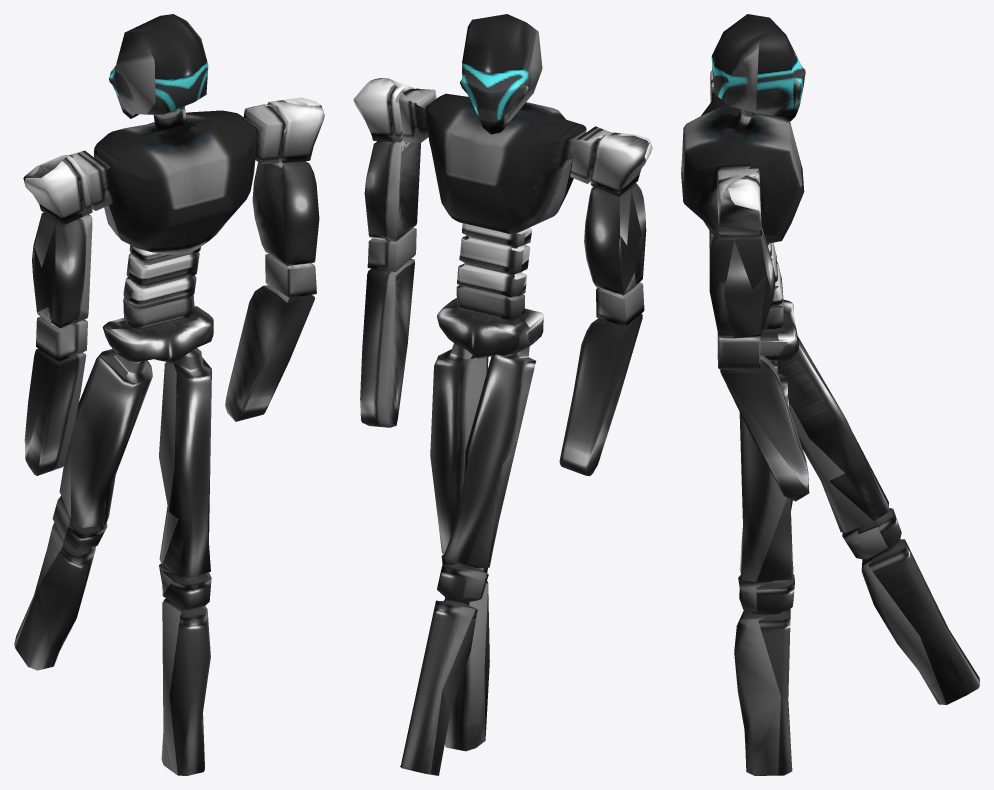
Rendered from frame_029.obj.
The picture shows the model from 3 angles, left to right: view 1: azimuth 30°, elevation 25°; view 2: azimuth 150°, elevation 25°; view 3: azimuth 270°, elevation 25°; orthographic projection. The views are drawn at different scales.
Parts seen in each view (by area): view 1: Cyborg, PiernaD, PierzaI, AntebrazoD, Cabeza, BrazoD; view 2: Cyborg, PierzaI, PiernaD, AntebrazoD, Cabeza, BrazoD; view 3: PierzaI, PiernaD, Cyborg, AntebrazoD, Cabeza, BrazoD.
Boxes of the visible parts, x1,y1,x2,y2 form: Cyborg: (23, 104, 286, 475); PiernaD: (159, 348, 211, 775); PierzaI: (14, 349, 152, 670); AntebrazoD: (252, 97, 324, 297); Cabeza: (109, 14, 208, 118); BrazoD: (225, 285, 314, 421); Cyborg: (398, 88, 652, 475); PierzaI: (400, 346, 535, 775); PiernaD: (430, 343, 489, 751); AntebrazoD: (353, 78, 420, 271); Cabeza: (460, 14, 542, 134); BrazoD: (360, 259, 414, 427); PierzaI: (777, 336, 979, 704); PiernaD: (734, 361, 794, 775); Cyborg: (681, 69, 804, 364); AntebrazoD: (709, 175, 775, 369); Cabeza: (711, 14, 805, 121); BrazoD: (720, 355, 809, 501).
Size of the model in its own units: 10.13 by 24.73 by 9.16.
Materials: 1 (1 with a texture image).
